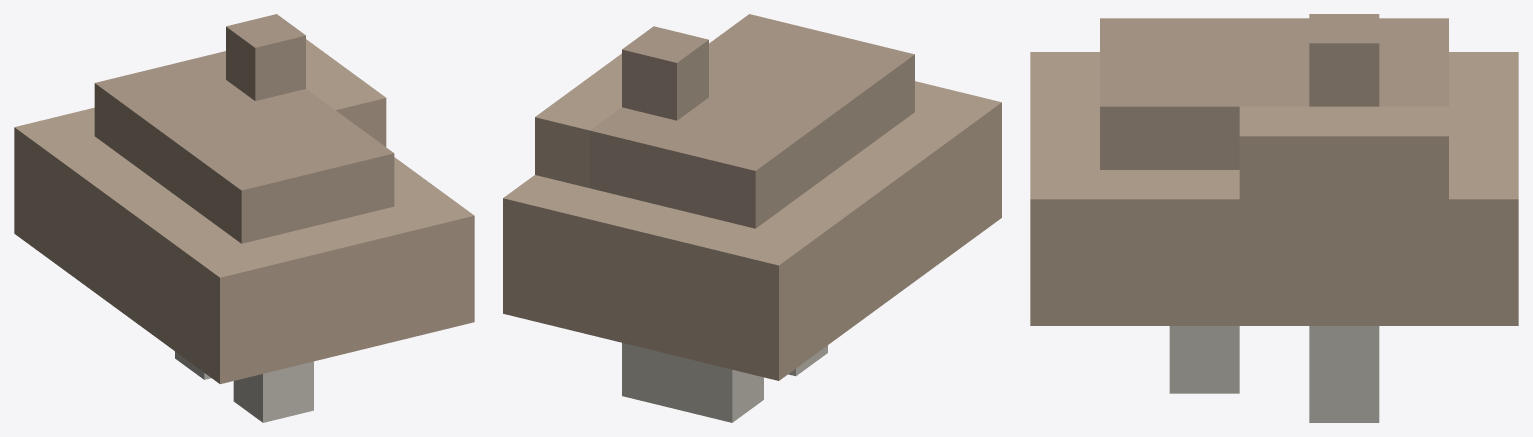
The model's file is corro_de_setas_03.glb.
3 renders of one model, left to right at view 1: azimuth 30°, elevation 25°; view 2: azimuth 150°, elevation 25°; view 3: azimuth 270°, elevation 25°, orthographic. The views are drawn at different scales.
Visible parts, largest first — view 1: corro_de_setas_03; view 2: corro_de_setas_03; view 3: corro_de_setas_03.
Part boxes in pixels (x1,y1,x2,y2): corro_de_setas_03: [14, 14, 474, 422]; corro_de_setas_03: [503, 14, 1001, 422]; corro_de_setas_03: [1030, 14, 1518, 422].
Size of the model in its own units: 0.5 by 0.6 by 0.7.
